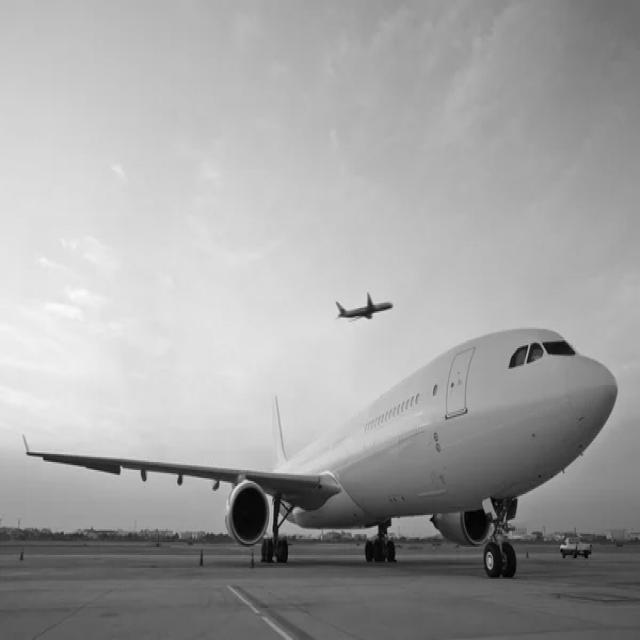Aircraft: (25, 316, 626, 582)
